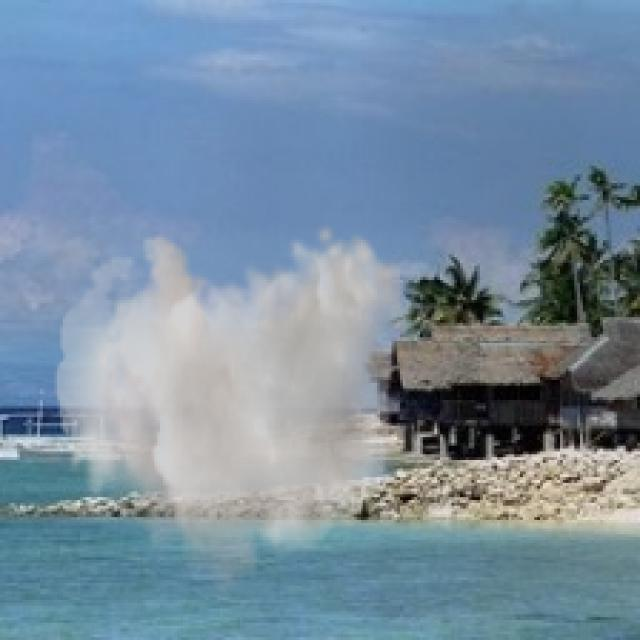Smoke: (54, 220, 406, 603)
